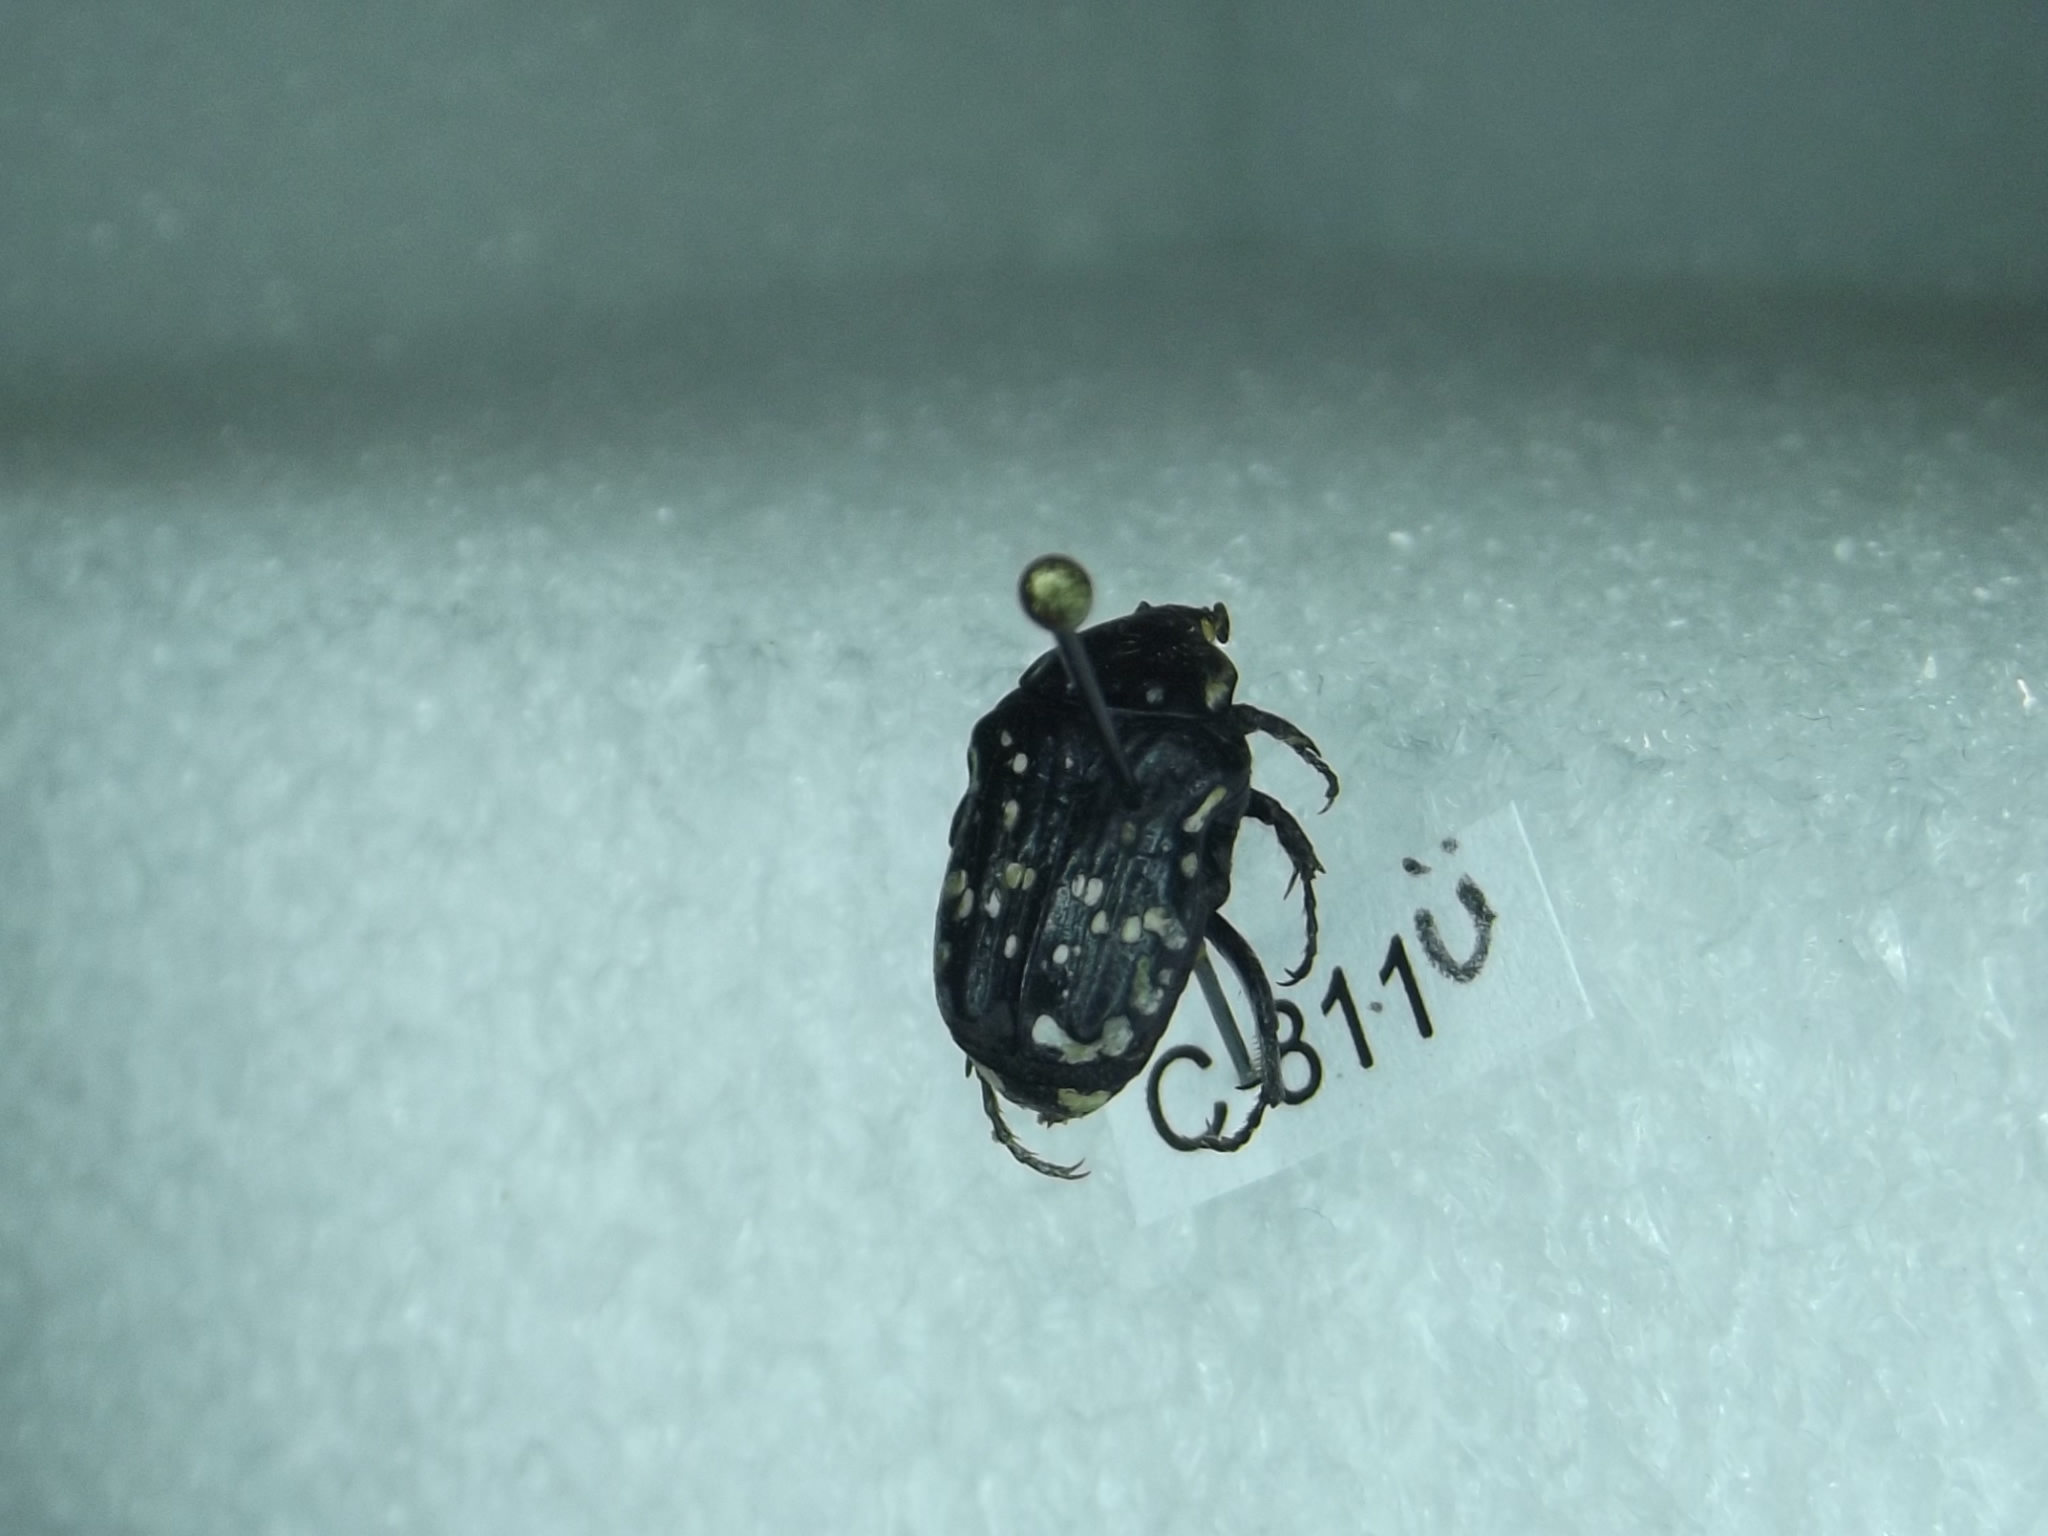Oxythyrea_albopicta: (939, 584, 1358, 1165)
